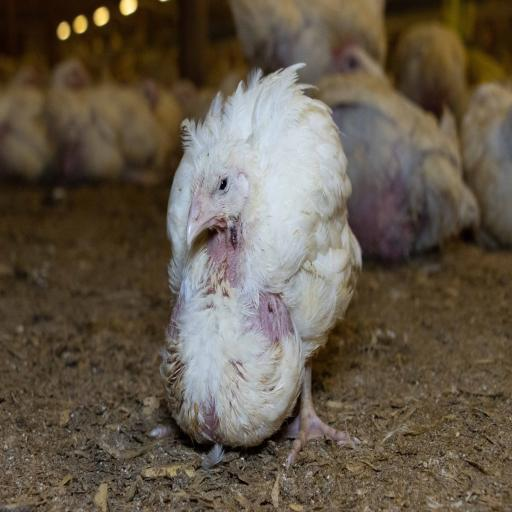disease: (200, 176, 257, 259), (207, 157, 261, 184)
